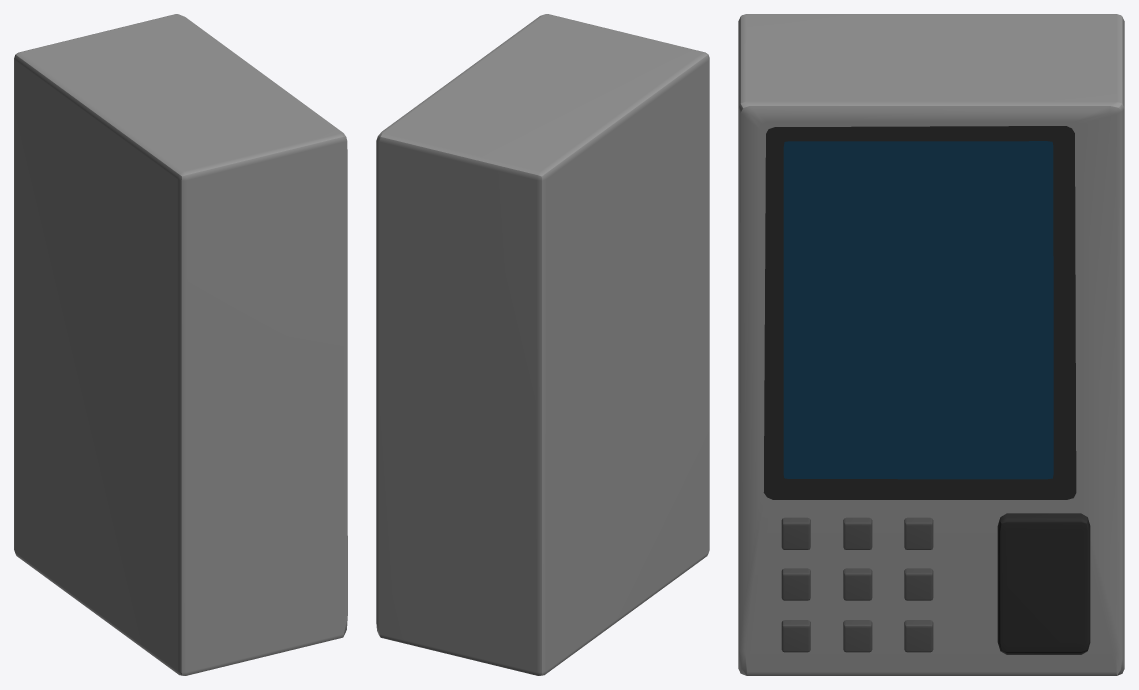
File: CardTerminal_Wall.fbx
3 views of the same model, side by side, from view 1: azimuth 30°, elevation 25°; view 2: azimuth 150°, elevation 25°; view 3: azimuth 270°, elevation 25° (orthographic). The views are drawn at different scales.
Parts seen in each view (by area): view 1: group1_pasted__pCube3; view 2: group1_pasted__pCube3; view 3: group1_pasted__pCube3.
Part boxes in pixels (x1,y1,x2,y2): group1_pasted__pCube3: (14, 14, 347, 675); group1_pasted__pCube3: (376, 14, 709, 675); group1_pasted__pCube3: (738, 14, 1124, 675).
Bounding box in the file's own units: 15.78 × 42.5 × 25.92.
